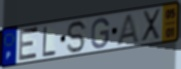A: (115, 12, 141, 46)
E: (17, 25, 40, 63)
G: (90, 17, 111, 50)
L: (41, 25, 57, 58)
S: (66, 20, 89, 55)
X: (140, 7, 162, 43)
